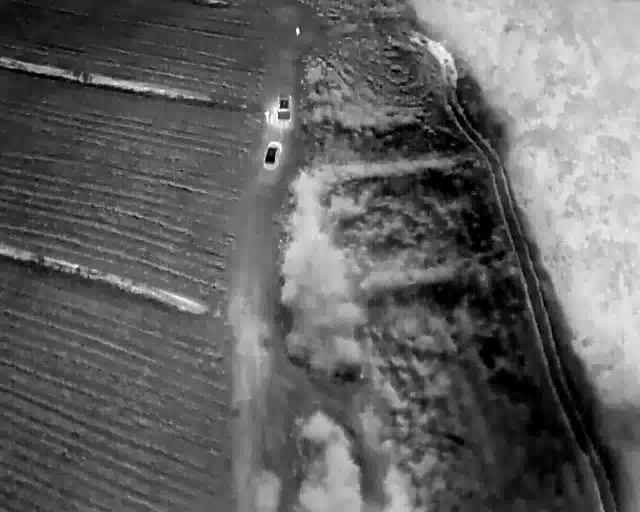car: (275, 91, 292, 121), (264, 140, 280, 169)
person: (263, 109, 270, 123), (268, 113, 275, 125), (272, 106, 278, 118), (294, 26, 300, 37)
